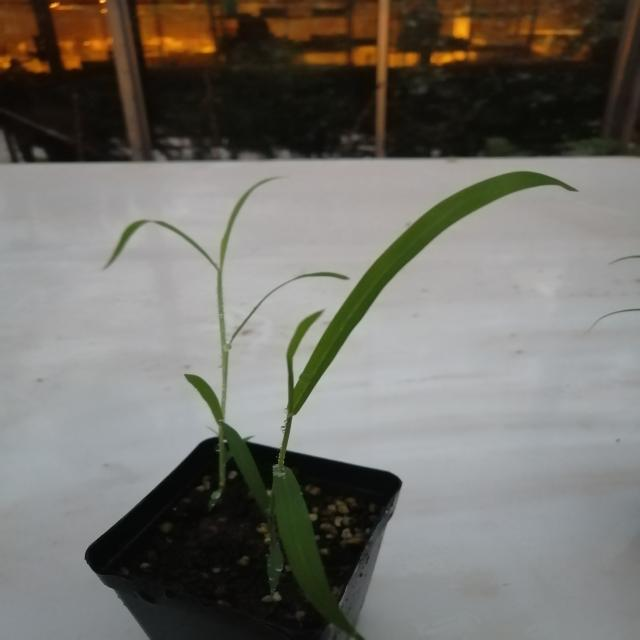crabgrass: (140, 135, 540, 620)
